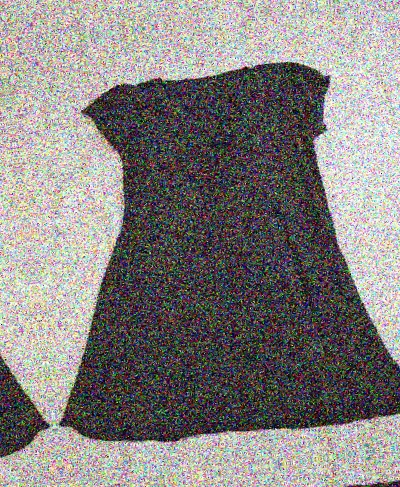Dress: (29, 24, 400, 469), (0, 81, 36, 487), (92, 465, 400, 487), (0, 0, 372, 16)
